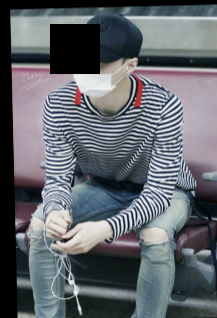mask_weared_incorrect: (75, 47, 122, 97)
